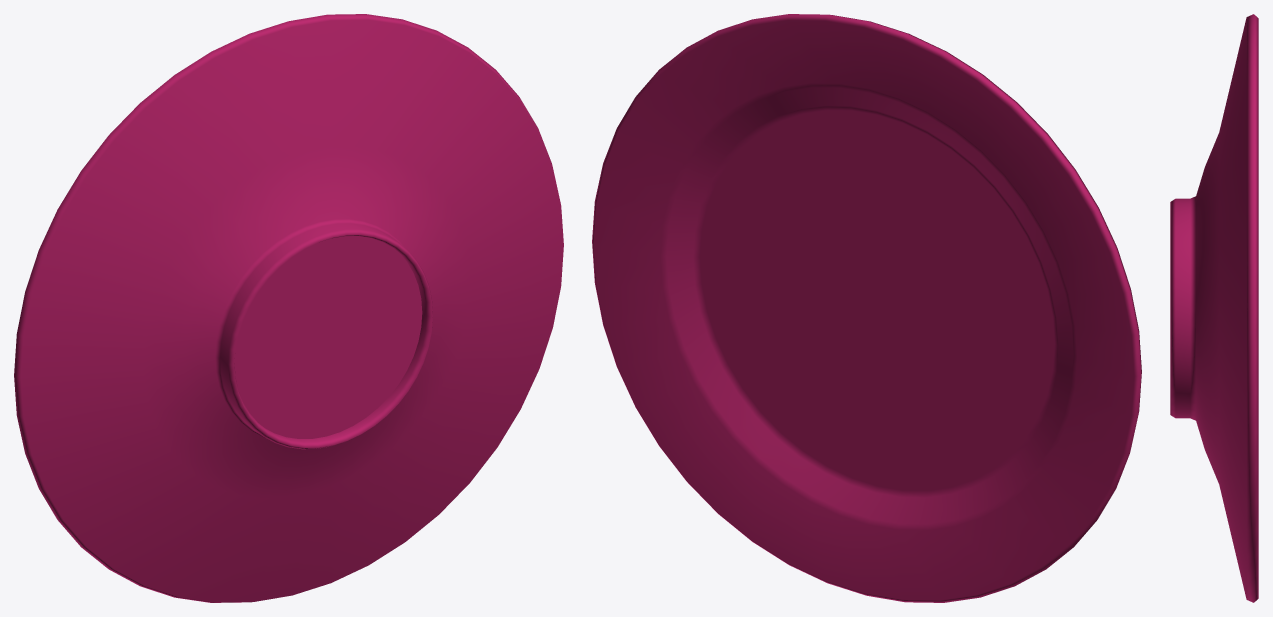
Rendered from SM_Dishes_11.fbx.
3 views of the same model, side by side, from view 1: azimuth 30°, elevation 25°; view 2: azimuth 150°, elevation 25°; view 3: azimuth 270°, elevation 25° (orthographic). The views are drawn at different scales.
Visible parts, largest first — view 1: SM_Dishes_11; view 2: SM_Dishes_11; view 3: SM_Dishes_11.
Part boxes in pixels (x1,y1,x2,y2): SM_Dishes_11: (14,14,563,602); SM_Dishes_11: (592,14,1141,602); SM_Dishes_11: (1170,14,1258,602).
Bounding box in the file's own units: 18.33 × 18.33 × 2.75.
